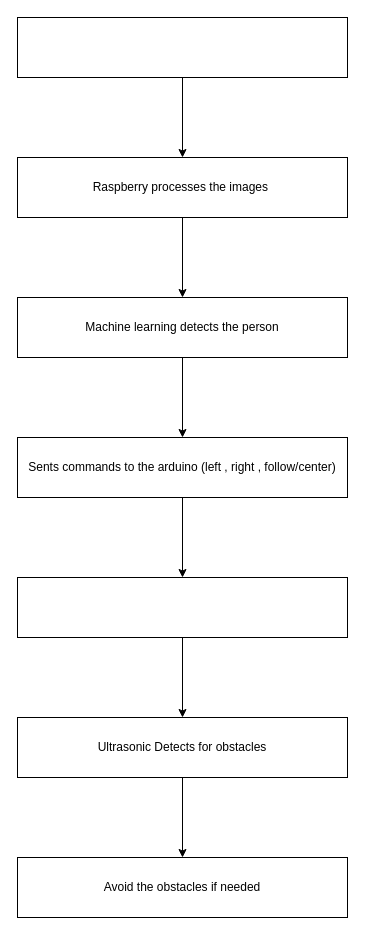
Some shapes in this 365 by 935 pixel diagram are drawn without their labels. Here are the shapes that lost their labels. From the top down, the centre of each, then its label:
pixel 182 47: Camera Captures the real time video
pixel 182 607: Arduino signals the motors
